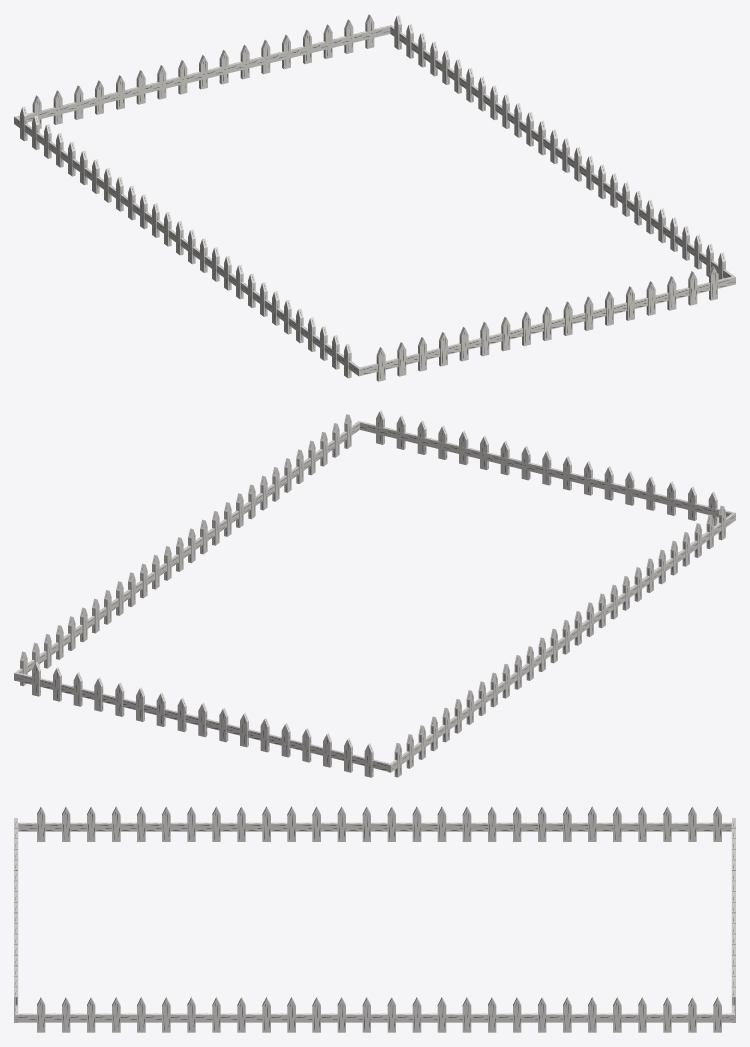
File: fence.glb
3 views of the same model, one above another, from view 1: azimuth 30°, elevation 25°; view 2: azimuth 150°, elevation 25°; view 3: azimuth 270°, elevation 25° (orthographic). The views are drawn at different scales.
Parts seen in each view (by area): view 1: Cube.010; view 2: Cube.010; view 3: Cube.010.
Part boxes in pixels (bbox=[...]): Cube.010: bbox=[14, 14, 735, 381]; Cube.010: bbox=[14, 410, 735, 777]; Cube.010: bbox=[14, 806, 735, 1032].
Size of the model in its own units: 27.25 by 2.24 by 43.2.
Materials: 1 (1 with a texture image).
